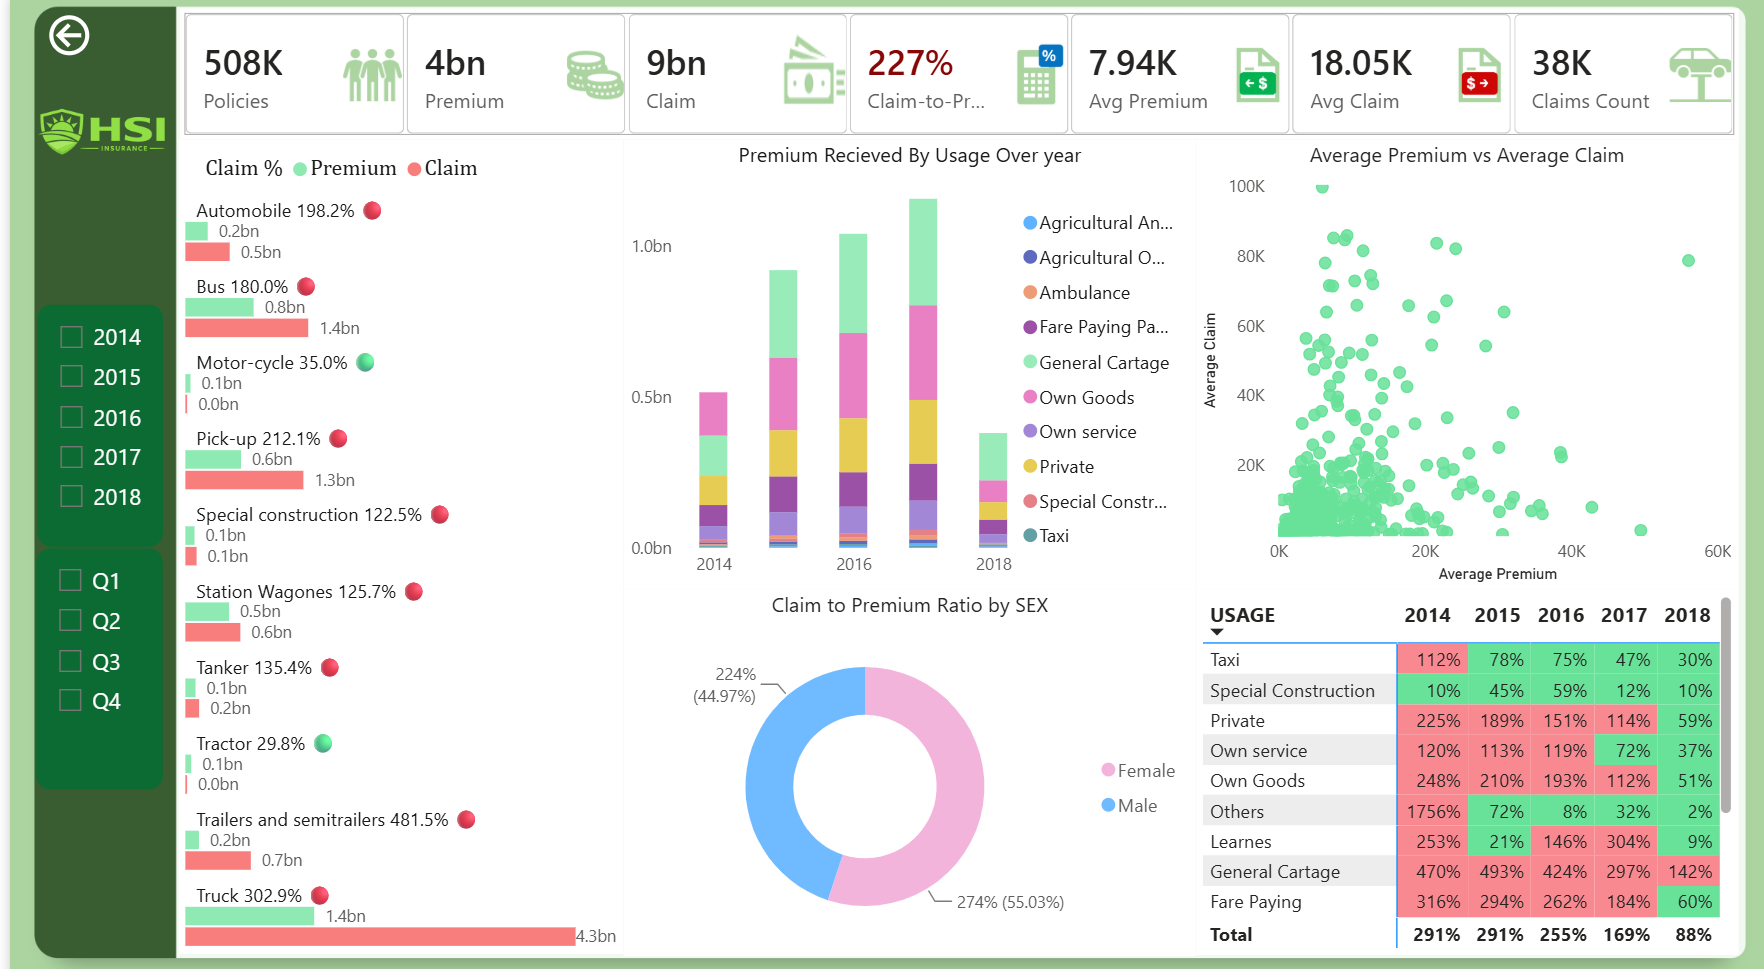

This screenshot's page, from the dashboard's own definition file:
{"tool":"powerbi","page":{"name":"Overview","canvas":[1280,720],"ordinal":1},"visuals":[{"type":"clusteredBarChart","title":"Premium To Claim By  Vehicle Type","fields":{"Category":["Policies.TYPE_VEHICLE"],"Y":["Meaure atble.Dummy Series","Meaure atble.Total Premium","Meaure atble.Total Claim"]},"box":[123.1,105,323.3,592.4],"z":0},{"type":"cardVisual","fields":{"Data":["Meaure atble.Policies Opened","Meaure atble.Total Premium","Meaure atble.Total Claim","Meaure atble.Premium to Claim Ratio","Meaure atble.Avg Premium","Meaure atble.Avg Claim2","Meaure atble.Claim Count2"]},"box":[123.3,9.3,1133.7,95.3],"z":1000},{"type":"ribbonChart","title":"Premium Recieved By Usage Over year","fields":{"Category":["Calendar.Year"],"Y":["Meaure atble.Total Premium"],"Series":["Policies.USAGE"]},"box":[446.4,105,416.2,326.9],"z":2000},{"type":"slicer","fields":{"Values":["Calendar.Year"]},"box":[20,224.9,91.3,175.9],"z":3000},{"type":"donutChart","title":"Claim to Premium Ratio by SEX","fields":{"Category":["Policies.SEX"],"Y":["Meaure atble.Loss Ratio"]},"box":[446.4,431.9,416.2,266.6],"z":4000},{"type":"image","box":[18.9,47.9,96.8,102.4],"z":5000},{"type":"scatterChart","title":"Average Premium vs Average Claim","fields":{"Y":["Meaure atble.Avg Claim2"],"X":["Meaure atble.Avg Premium"],"Category":["Policies.TYPE_VEHICLE","Policies.MAKE"]},"box":[862.7,104.6,394.1,327.3],"z":6000},{"type":"pivotTable","fields":{"Rows":["Policies.USAGE"],"Columns":["Calendar.Year"],"Values":["Meaure atble.Premium to Claim Ratio"]},"box":[862.6,431.9,394.5,265.4],"z":7000},{"type":"slicer","fields":{"Values":["Calendar.Quarter"]},"box":[19.3,401.7,91.7,174.9],"z":8000},{"type":"actionButton","box":[23.4,8.9,92.4,39],"z":9000}]}

Visuals, with their boxes in screenshot pixels (x1, y1, x2, y2), scaled from the page's 1280x720 canvas onto the 1764x969 screenshot:
"Premium To Claim By  Vehicle Type" clusteredBarChart: locate(170, 141, 615, 939)
cardVisual - Meaure atble.Policies Opened x Meaure atble.Total Premium: locate(170, 13, 1732, 141)
"Premium Recieved By Usage Over year" ribbonChart: locate(615, 141, 1189, 581)
slicer - Calendar.Year: locate(28, 303, 153, 539)
"Claim to Premium Ratio by SEX" donutChart: locate(615, 581, 1189, 940)
image: locate(26, 64, 159, 202)
"Average Premium vs Average Claim" scatterChart: locate(1189, 141, 1732, 581)
pivotTable - Policies.USAGE x Calendar.Year: locate(1189, 581, 1732, 938)
slicer - Calendar.Quarter: locate(27, 541, 153, 776)
actionButton: locate(32, 12, 160, 64)
